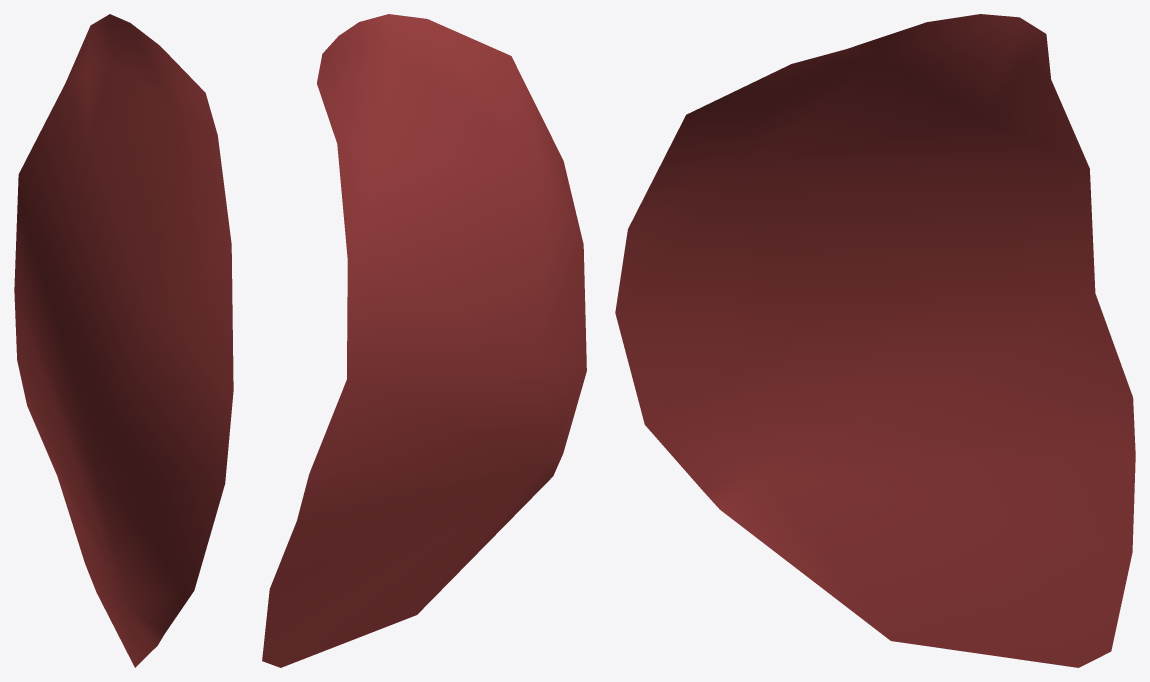
File: tibialis-anterior-muscle-e1l.glb
3 views of the same model, side by side, from view 1: azimuth 30°, elevation 25°; view 2: azimuth 150°, elevation 25°; view 3: azimuth 270°, elevation 25° (orthographic). The views are drawn at different scales.
Visible parts, largest first — view 1: Tibialis anterior muscle.e1l; view 2: Tibialis anterior muscle.e1l; view 3: Tibialis anterior muscle.e1l.
Boxes of the visible parts, bbox=[...] form: Tibialis anterior muscle.e1l: bbox=[14, 14, 233, 667]; Tibialis anterior muscle.e1l: bbox=[262, 14, 586, 667]; Tibialis anterior muscle.e1l: bbox=[615, 14, 1135, 667].
Bounding box in the file's own units: 0.0027 × 0.0115 × 0.00835.
